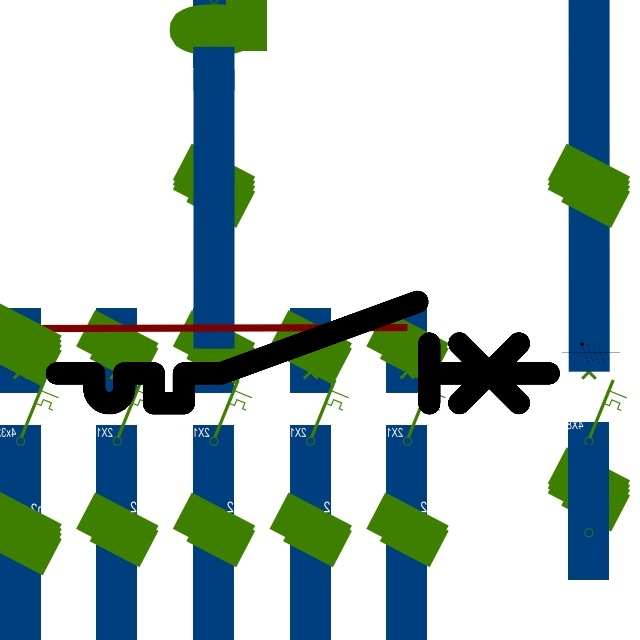interruptor_termomagnetico: (44, 289, 562, 416)
